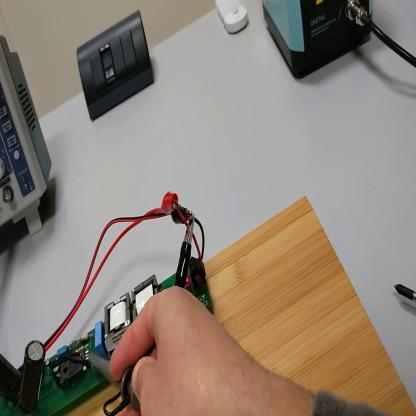hand: (107, 285, 262, 413)
high voltage board: (2, 195, 213, 415)
oscilloscope: (2, 34, 53, 238)
oscilloscope probe tip: (89, 350, 141, 410)
screwdriver-: (395, 276, 416, 305)
welder station: (263, 2, 374, 82)
working area: (49, 197, 416, 416)
